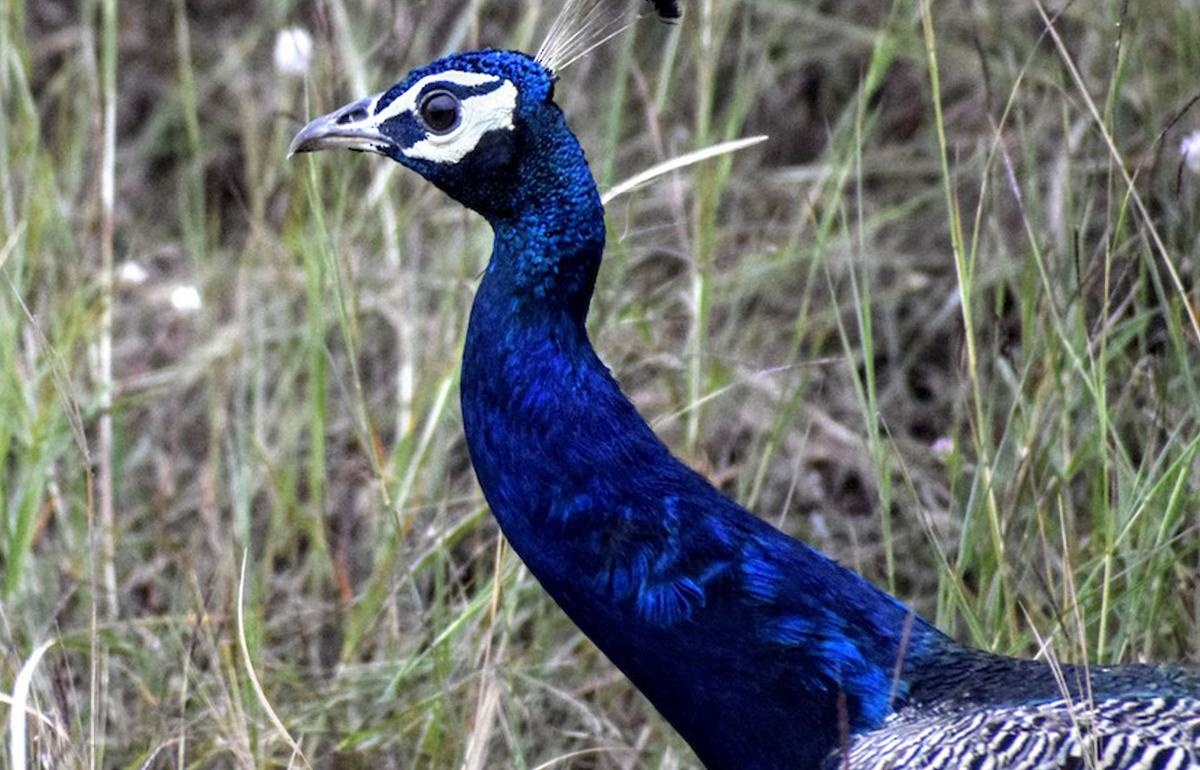peacock: (316, 53, 1178, 770)
